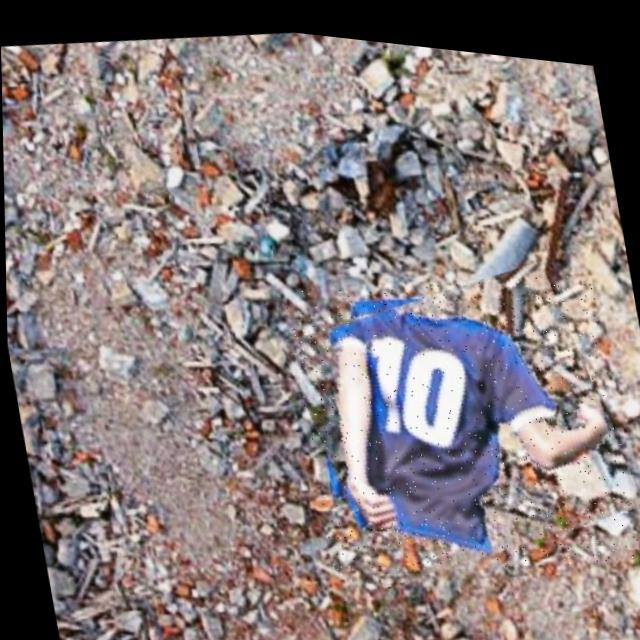Person in Rubble: (282, 234, 640, 594)
